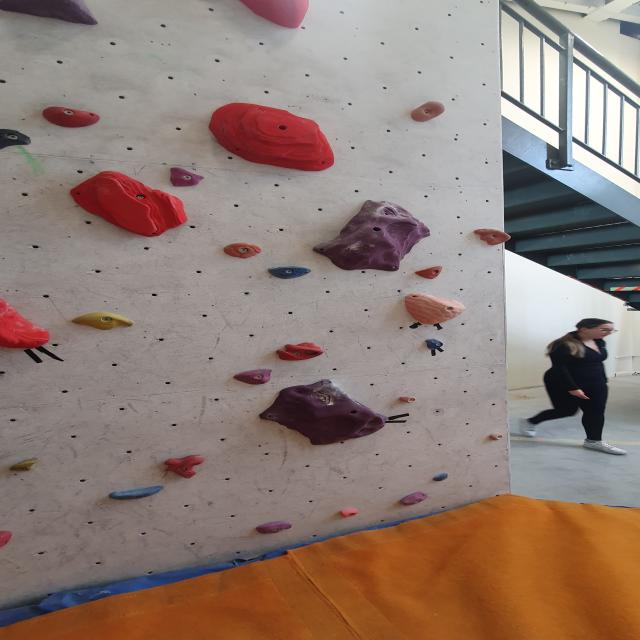Crimp: (61, 309, 144, 333), (40, 105, 104, 130), (258, 263, 320, 280), (218, 240, 270, 260), (106, 485, 168, 500), (167, 167, 206, 190), (234, 368, 278, 385), (253, 518, 296, 534), (411, 264, 453, 280), (394, 490, 433, 506), (423, 337, 458, 352), (10, 459, 44, 472), (396, 394, 419, 406), (339, 508, 367, 517), (432, 471, 452, 481), (488, 431, 508, 441)
Jug: (162, 454, 206, 481), (404, 100, 452, 122)
Sloper: (202, 104, 340, 175), (64, 170, 194, 240), (264, 378, 390, 450), (313, 198, 421, 272), (0, 295, 52, 350), (232, 0, 314, 32), (400, 290, 470, 325), (276, 342, 326, 362), (471, 228, 513, 249)
